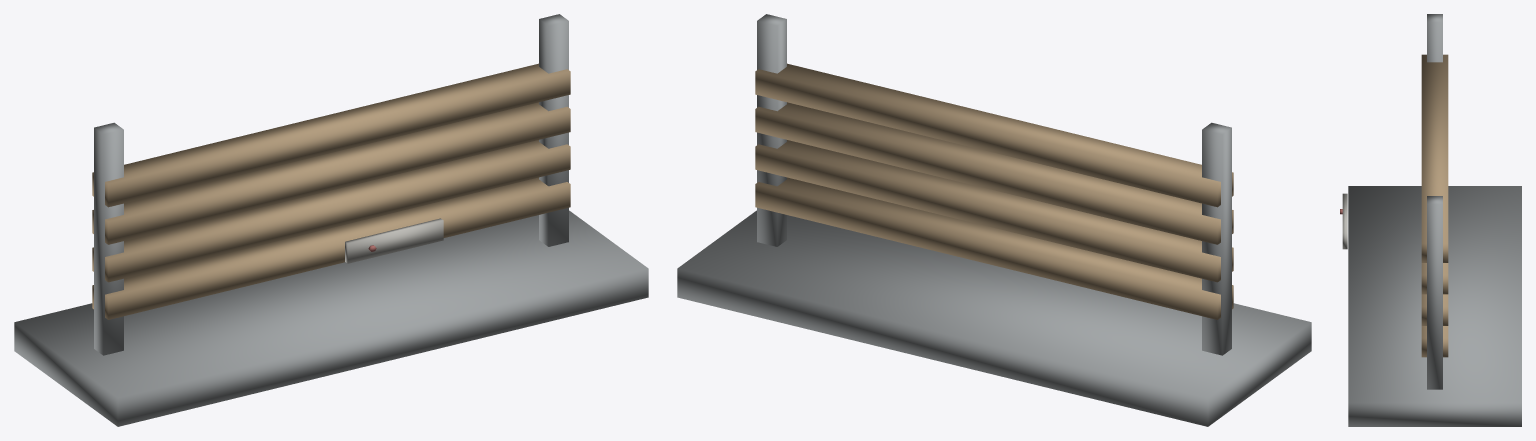
The model's file is lumber_cart__wide.glb.
The picture shows the model from 3 angles, left to right: view 1: azimuth 30°, elevation 25°; view 2: azimuth 150°, elevation 25°; view 3: azimuth 270°, elevation 25°; orthographic projection. The views are drawn at different scales.
Visible parts, largest first — view 1: world; view 2: world; view 3: world.
Boxes of the visible parts, bbox=[...] form: world: bbox=[14, 14, 648, 426]; world: bbox=[677, 14, 1311, 426]; world: bbox=[1340, 14, 1521, 426].
Size of the model in its own units: 1.92 by 0.865 by 0.681.
